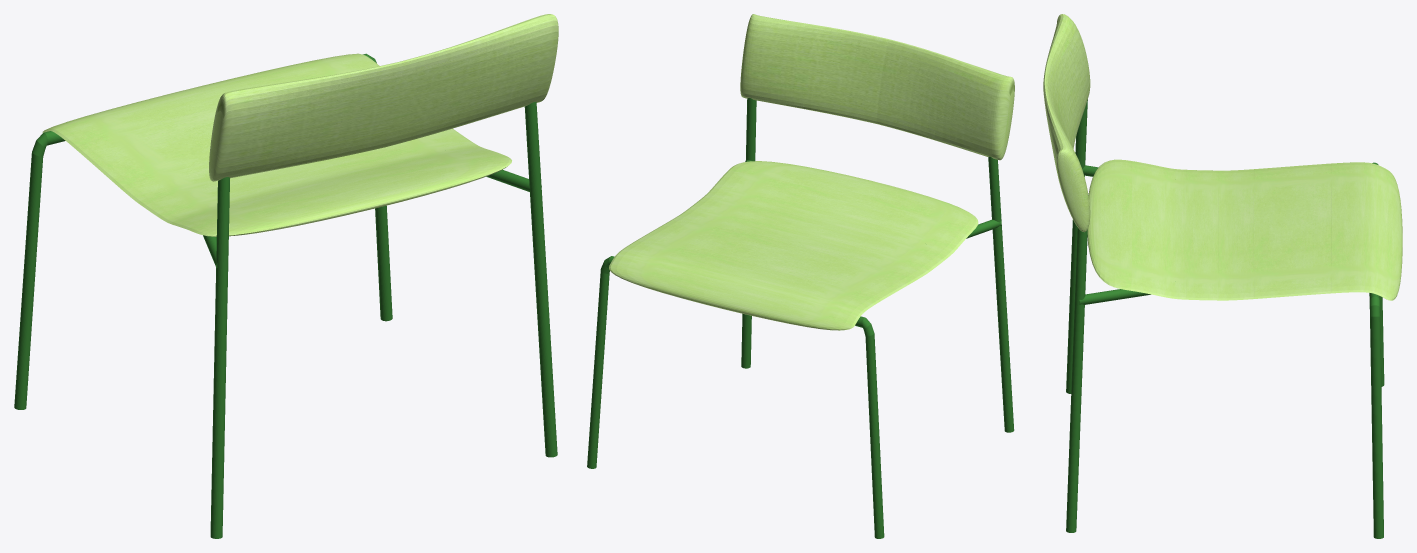
File: chair6.fbx
3 renders of one model, left to right at view 1: azimuth 30°, elevation 25°; view 2: azimuth 150°, elevation 25°; view 3: azimuth 270°, elevation 25°, orthographic. The views are drawn at different scales.
Visible parts, largest first — view 1: Cube, Cube.001, Cylinder.001, Cylinder, Cylinder.003, Cylinder.002; view 2: Cube, Cube.001, Cylinder.001, Cylinder.003, Cylinder.002, Cylinder; view 3: Cube, Cube.001, Cylinder, Cylinder.002, Cylinder.001, Cylinder.005.
Part boxes in pixels (box(x1,y1,x2,y2)): Cube: box(42, 53, 511, 236); Cube.001: box(209, 14, 558, 181); Cylinder.001: box(210, 177, 229, 538); Cylinder: box(524, 102, 557, 457); Cylinder.003: box(14, 131, 65, 409); Cylinder.002: box(363, 53, 392, 321); Cube: box(609, 161, 978, 330); Cube.001: box(740, 14, 1014, 160); Cylinder.001: box(988, 156, 1014, 432); Cylinder.003: box(855, 316, 884, 538); Cylinder.002: box(587, 256, 614, 468); Cylinder: box(741, 98, 756, 368); Cube: box(1087, 159, 1402, 300); Cube.001: box(1043, 14, 1090, 232); Cylinder: box(1066, 227, 1087, 532); Cylinder.002: box(1369, 293, 1383, 538); Cylinder.001: box(1066, 99, 1087, 393); Cylinder.005: box(1079, 289, 1150, 304).
Size of the model in its own units: 1436 by 1624 by 1394.
